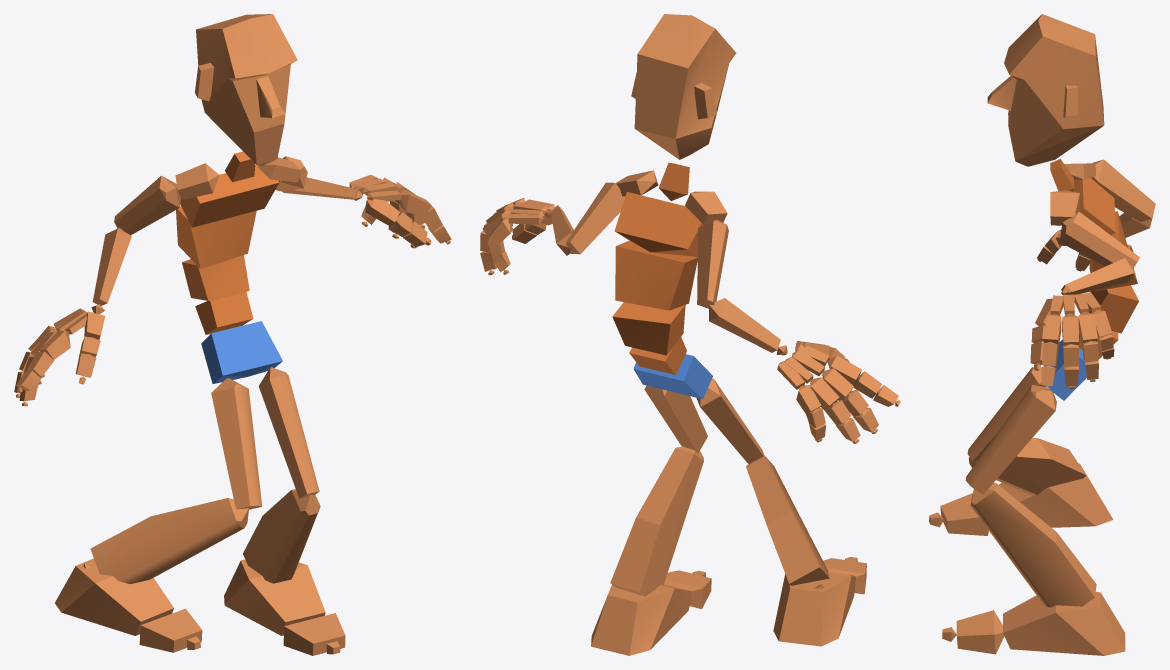
3 renders of one model, left to right at view 1: azimuth 30°, elevation 25°; view 2: azimuth 150°, elevation 25°; view 3: azimuth 270°, elevation 25°, orthographic.
Parts seen in each view (by area): view 1: BOPED_Head, BOPED_R_leg, BOPED_R_foot, BOPED_R_foot01, BOPED_L_leg, BOPED_R_legup, BOPED_L_legup, Bone01, Bone04, Bone05, Bone03, BOPED_R_arm_upper (+9 smaller); view 2: BOPED_Head, BOPED_L_leg, BOPED_R_foot01, BOPED_R_leg, BOPED_R_foot, Bone04, Bone05, Bone03, BOPED_R_arm_upper, BOPED_L_legup, BOPED_R_legup, BOPED_L_arm_upper (+9 smaller); view 3: BOPED_Head, BOPED_L_leg, BOPED_R_foot01, BOPED_L_legup, BOPED_R_foot, BOPED_R_leg, BOPED_L_arm_upper, BOPED_R_arm_upper, BOPED_R_foot_toe04, Bone05, BOPED_R_legup, Bone03 (+14 smaller).
Boxes of the visible parts, x1,y1,x2,y2 form: BOPED_Head: (195, 14, 297, 165); BOPED_R_leg: (90, 498, 248, 583); BOPED_R_foot: (55, 558, 173, 635); BOPED_R_foot01: (224, 559, 325, 635); BOPED_L_leg: (243, 489, 320, 583); BOPED_R_legup: (211, 378, 262, 509); BOPED_L_legup: (258, 367, 319, 498); Bone01: (201, 321, 282, 383); Bone04: (176, 206, 256, 268); Bone05: (180, 165, 279, 227); Bone03: (182, 255, 249, 300); BOPED_R_arm_upper: (114, 175, 180, 235); BOPED_Head: (631, 14, 736, 159); BOPED_L_leg: (610, 446, 703, 596); BOPED_R_foot01: (591, 584, 692, 655); BOPED_R_leg: (746, 456, 829, 585); BOPED_R_foot: (773, 572, 855, 646); Bone04: (615, 240, 697, 310); Bone05: (614, 192, 704, 256); Bone03: (612, 302, 685, 355); BOPED_R_arm_upper: (697, 220, 728, 308); BOPED_L_legup: (644, 385, 707, 453); BOPED_R_legup: (696, 378, 764, 463); BOPED_L_arm_upper: (566, 182, 625, 254); BOPED_Head: (987, 14, 1104, 166); BOPED_L_leg: (970, 482, 1096, 607); BOPED_R_foot01: (1003, 591, 1125, 655); BOPED_L_legup: (965, 385, 1056, 494); BOPED_R_foot: (999, 463, 1113, 527); BOPED_R_leg: (968, 438, 1086, 494); BOPED_L_arm_upper: (1059, 211, 1139, 268); BOPED_R_arm_upper: (1091, 159, 1155, 221); BOPED_R_foot_toe04: (956, 610, 1004, 654); Bone05: (1073, 178, 1115, 235); BOPED_R_legup: (967, 367, 1045, 461); Bone03: (1089, 285, 1138, 333).
Size of the model in its own units: 130 by 179 by 61.09.
